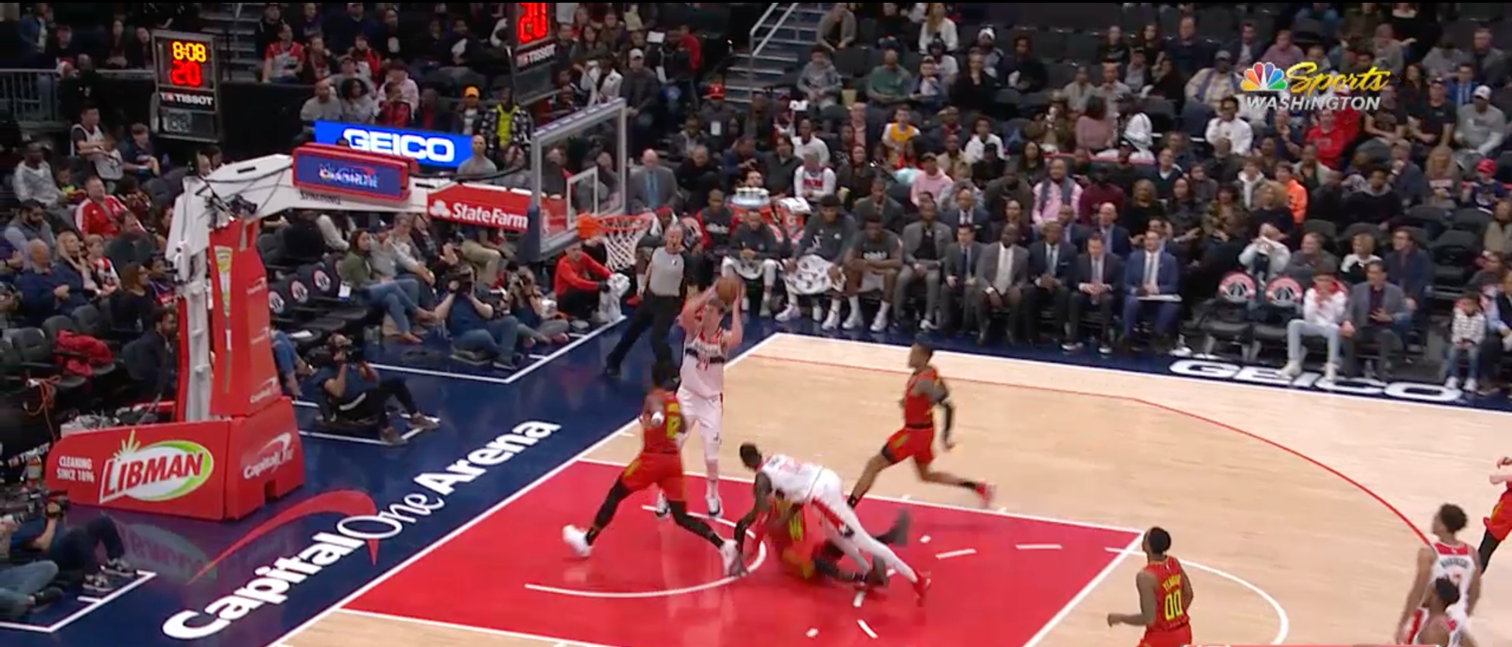Foul: (701, 497, 795, 647)
